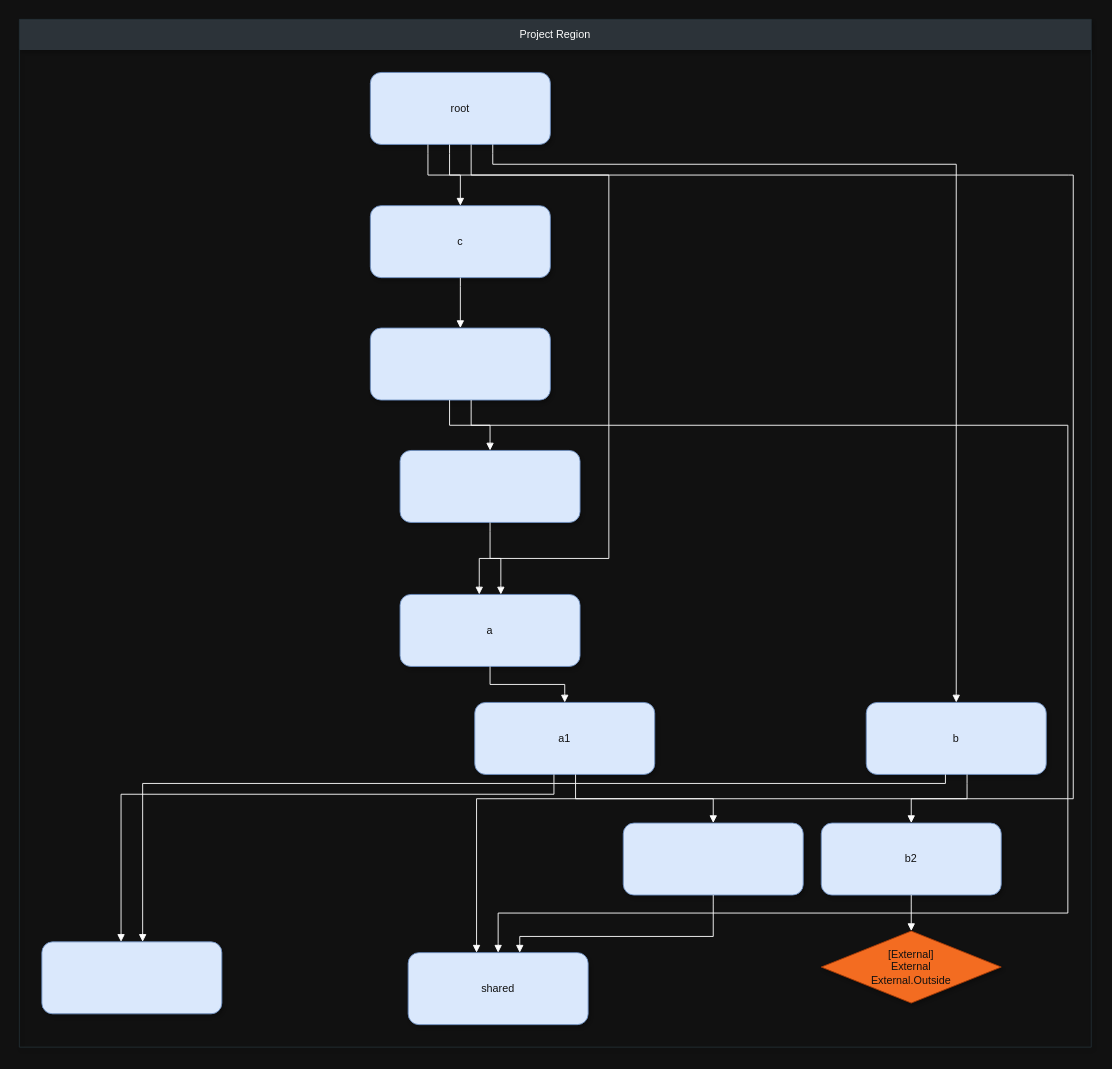
The diagram is 1112 pixels wide and 1069 high, and some of its shapes have lost their labels. The shapes that lost their labels are listed below. From the top down, each one's centre as x and y in pixels, then its label:
the point at 461,365: c1
the point at 490,487: c2
the point at 714,860: a2
the point at 132,978: b1
